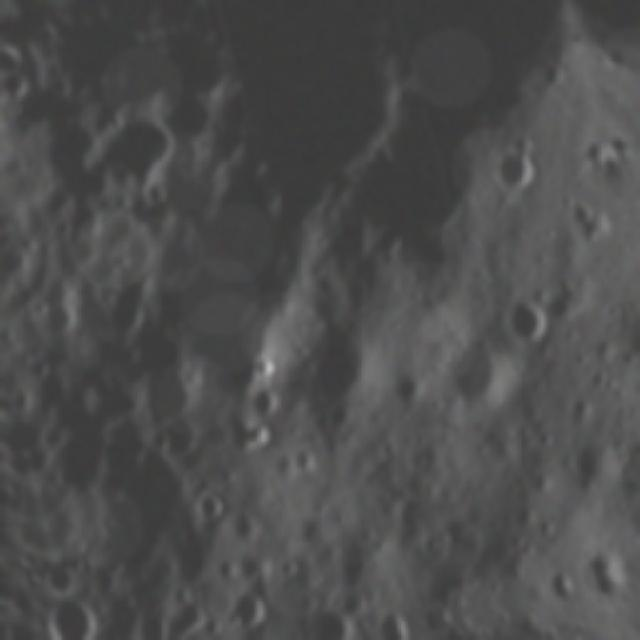crater: (291, 303, 389, 411), (422, 321, 524, 422), (479, 123, 564, 208), (558, 422, 631, 501), (497, 284, 555, 350), (219, 582, 273, 636), (303, 600, 359, 640), (187, 479, 231, 526), (284, 438, 328, 482), (242, 344, 288, 385), (239, 380, 284, 420), (205, 546, 247, 588), (266, 546, 308, 588), (222, 503, 263, 545), (137, 173, 172, 212)
